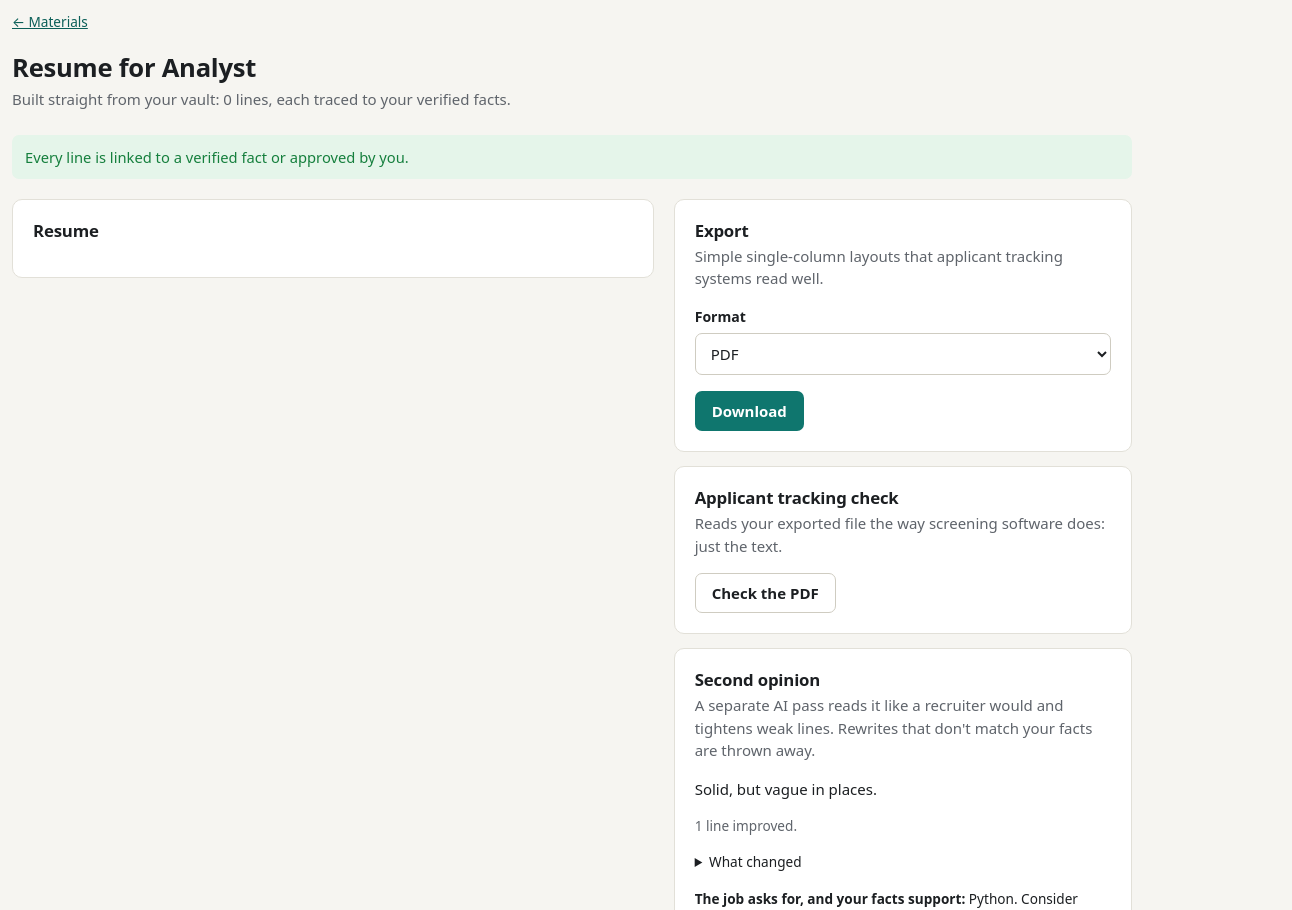
Scenario: materials › shows what screening software reads, and keyword coverage
This screenshot has width=1292, height=910.
Expected: the text "Solid, but vague in places." is shown, [695,778,877,798]
Step 1. Click the button "Check the PDF" → (765, 593), box [695,573,836,613]
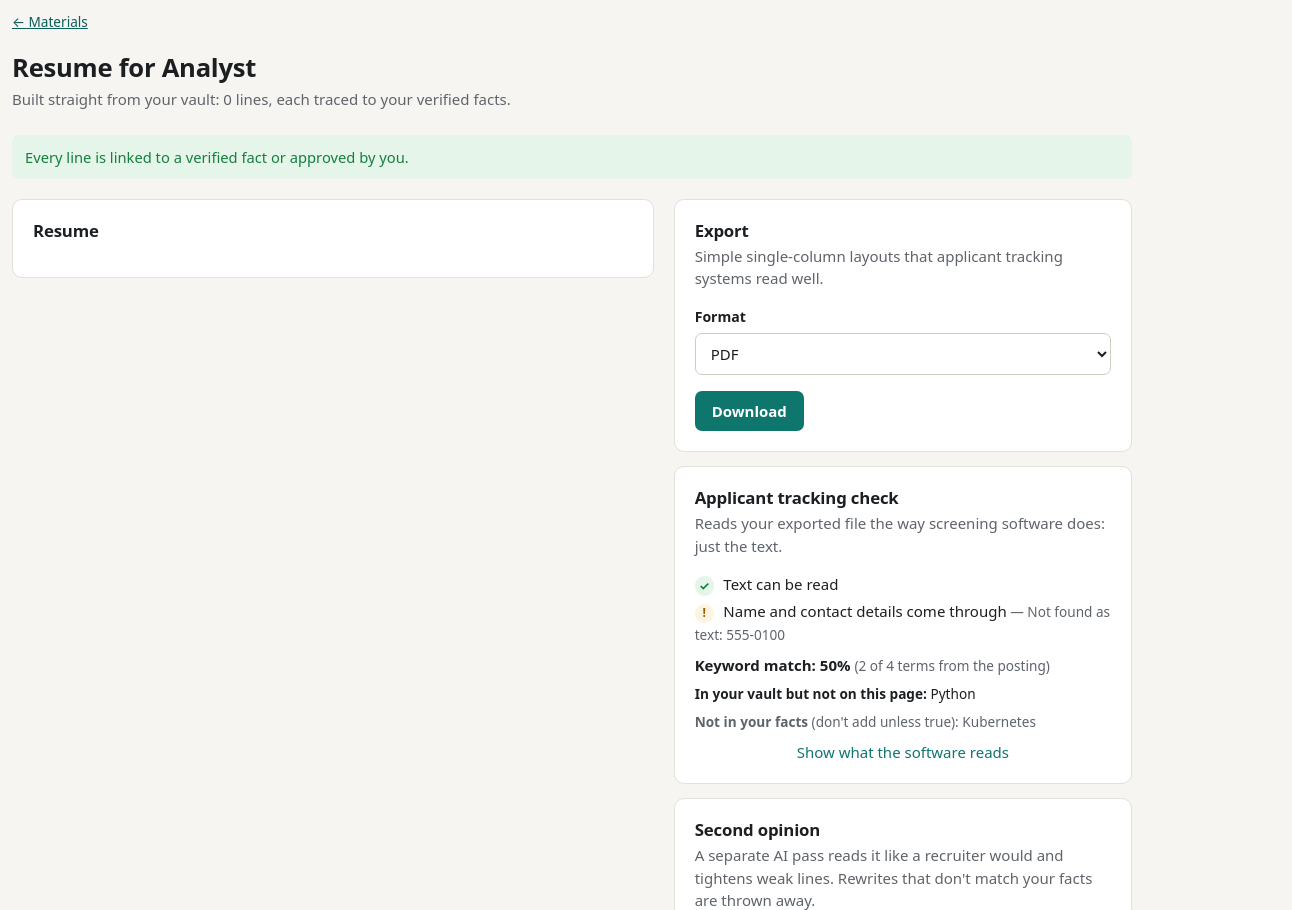
Expected: the text "Keyword match: 50%" is shown, [695,654,850,674]
Expected: the text "— Not found as text: 555-0100" is shown, [695,602,1110,644]
